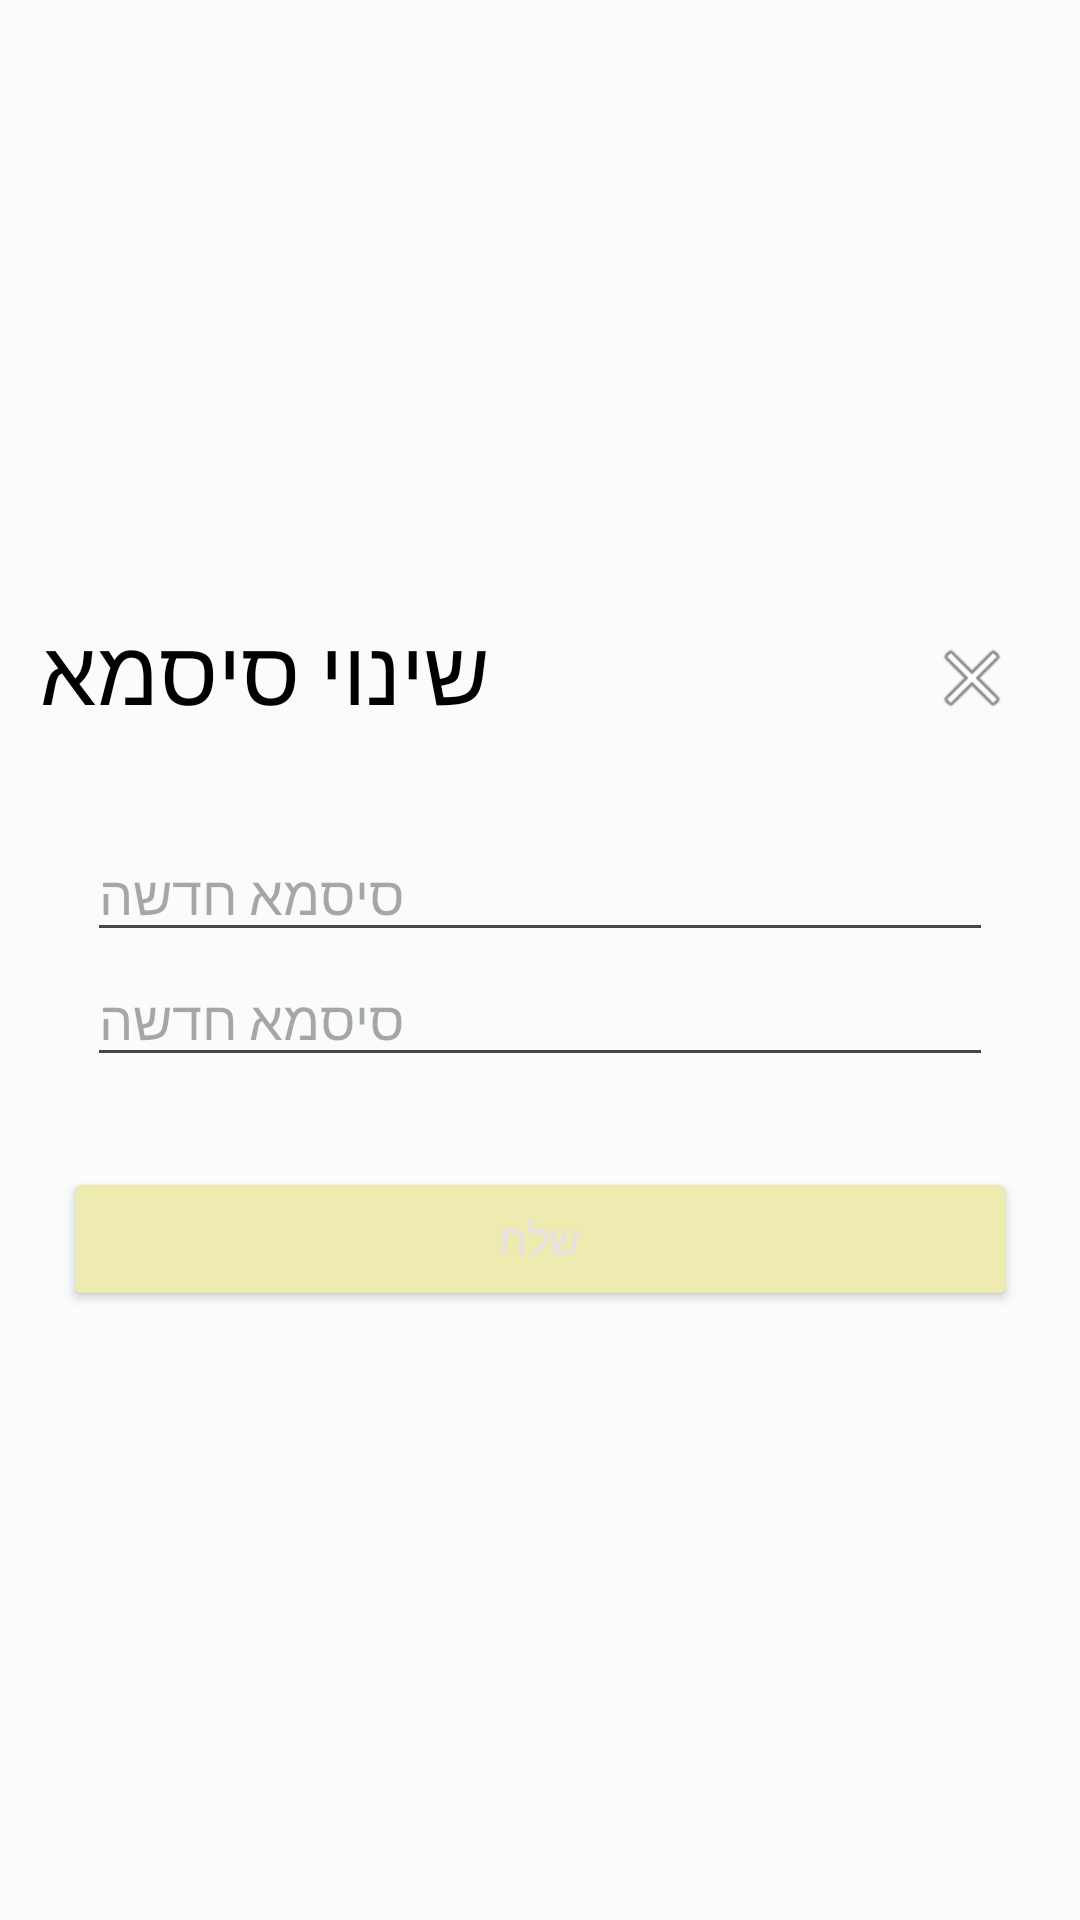

Where icons sit on this 1080w x 1920h app screen, as (x1, y1, x2, y2):
close clear cancel: (944, 650, 1000, 706)
